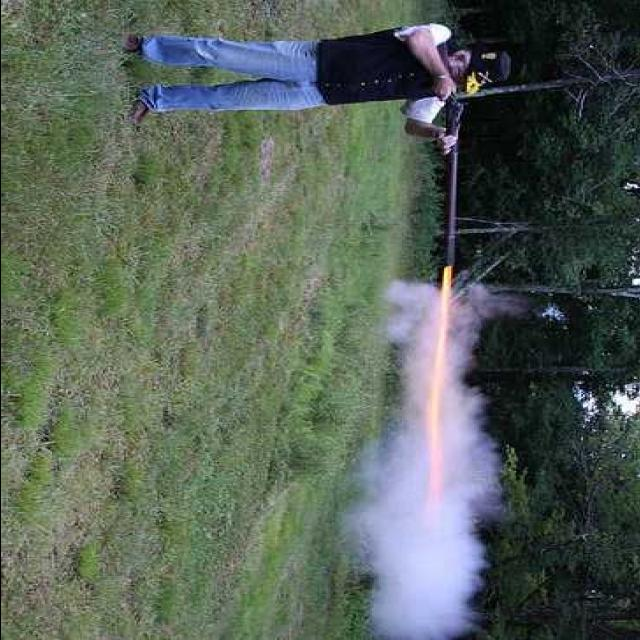heavyweapon: (416, 34, 472, 271)
